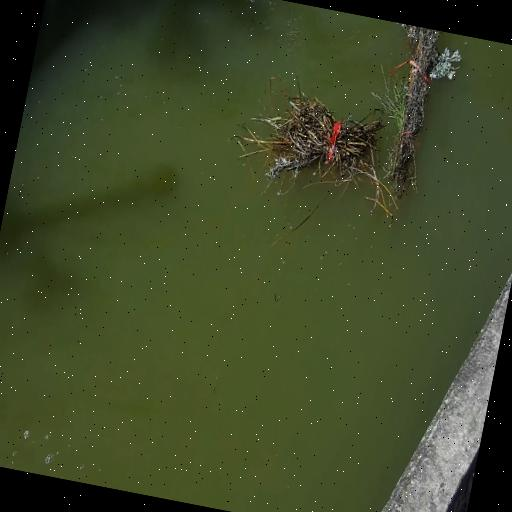twig: (258, 83, 398, 219), (362, 22, 468, 199)
